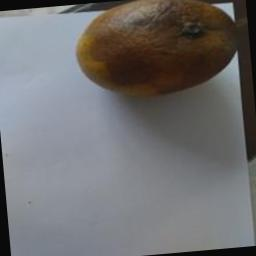Orange Rotten: (61, 0, 246, 121)
